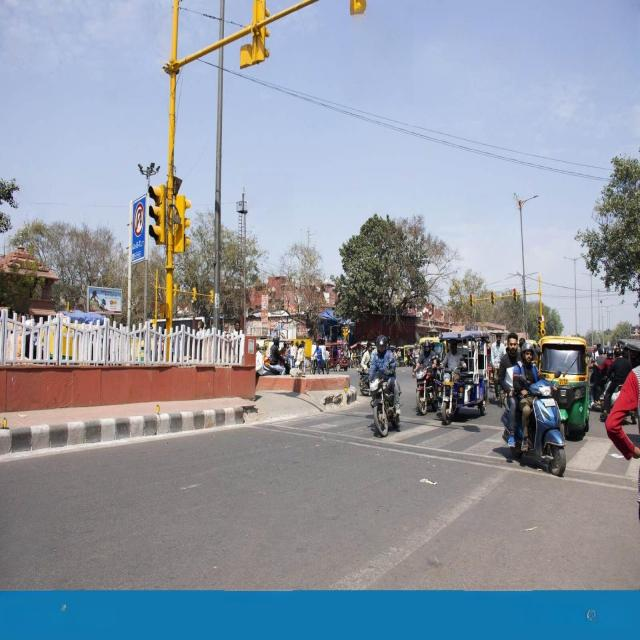autorickshaw: (540, 335, 590, 435)
motorcycle: (499, 334, 566, 475), (440, 332, 489, 424), (369, 335, 400, 436), (415, 341, 438, 415)
